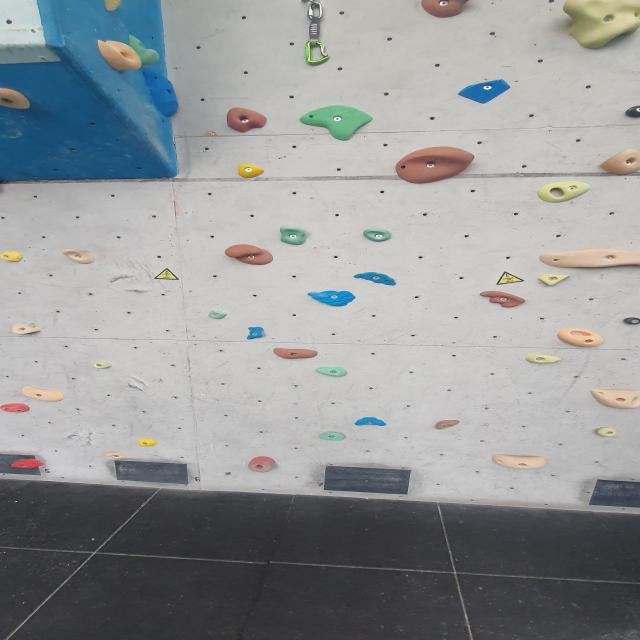Crimp: (292, 104, 378, 143), (142, 68, 179, 118), (306, 290, 356, 306), (352, 271, 402, 287), (20, 387, 64, 402), (272, 348, 319, 360), (314, 430, 354, 443), (236, 165, 266, 179), (10, 458, 46, 469), (314, 367, 353, 377), (435, 420, 463, 430), (246, 326, 266, 340), (0, 250, 24, 261), (136, 438, 160, 448)
Jug: (561, 0, 640, 50), (86, 37, 160, 74), (537, 246, 640, 271), (590, 147, 640, 177), (222, 244, 280, 267), (226, 108, 270, 132), (476, 289, 526, 308), (276, 225, 315, 246), (0, 88, 32, 112), (58, 248, 99, 266), (361, 226, 397, 243), (246, 457, 278, 473), (104, 451, 130, 461)
Pinch: (492, 455, 549, 470)
Pocket: (535, 180, 592, 202), (588, 387, 640, 408), (556, 328, 606, 348)
Sloper: (389, 145, 480, 185)
